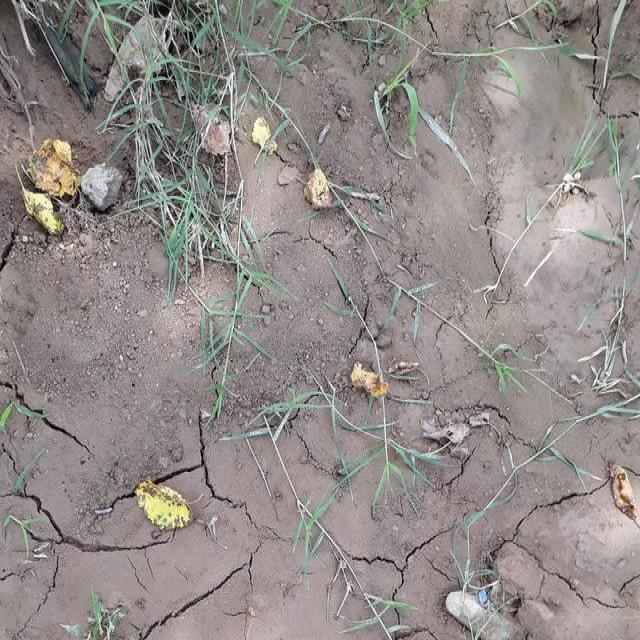weed: (133, 0, 286, 384)
